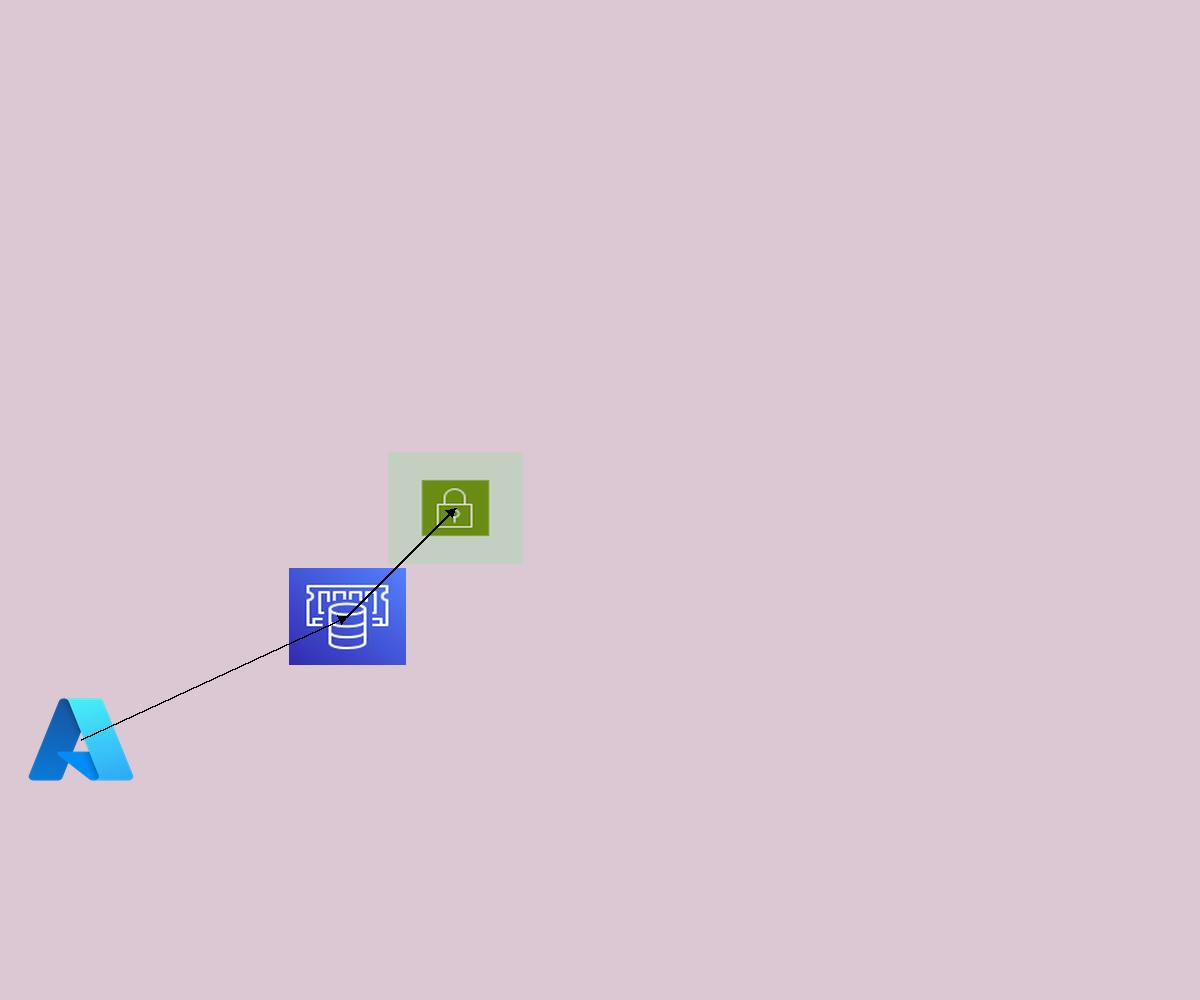AWS-ElastiCache: (289, 568, 406, 665)
AWS-Public-subnet: (388, 452, 523, 564)
Azure_services: (24, 692, 138, 787)
